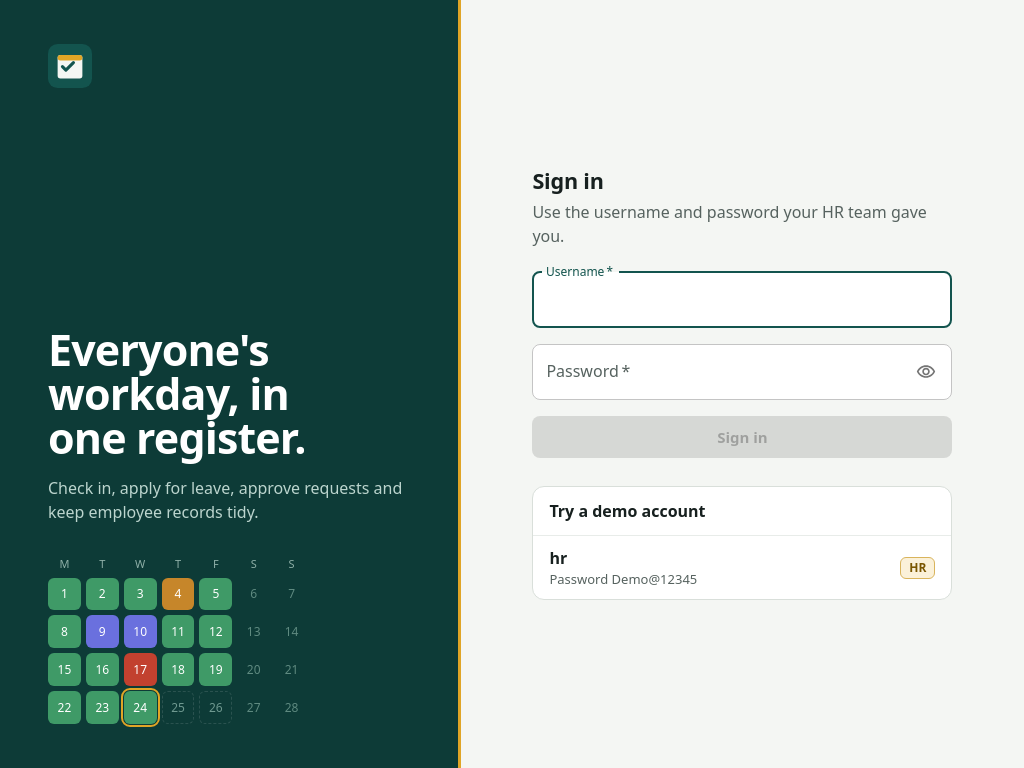
Test: LoginPage › offers demo accounts that fill the form
Click the button "hr Password Demo@12345 HR" at (580, 579), box [533,536,951,599]
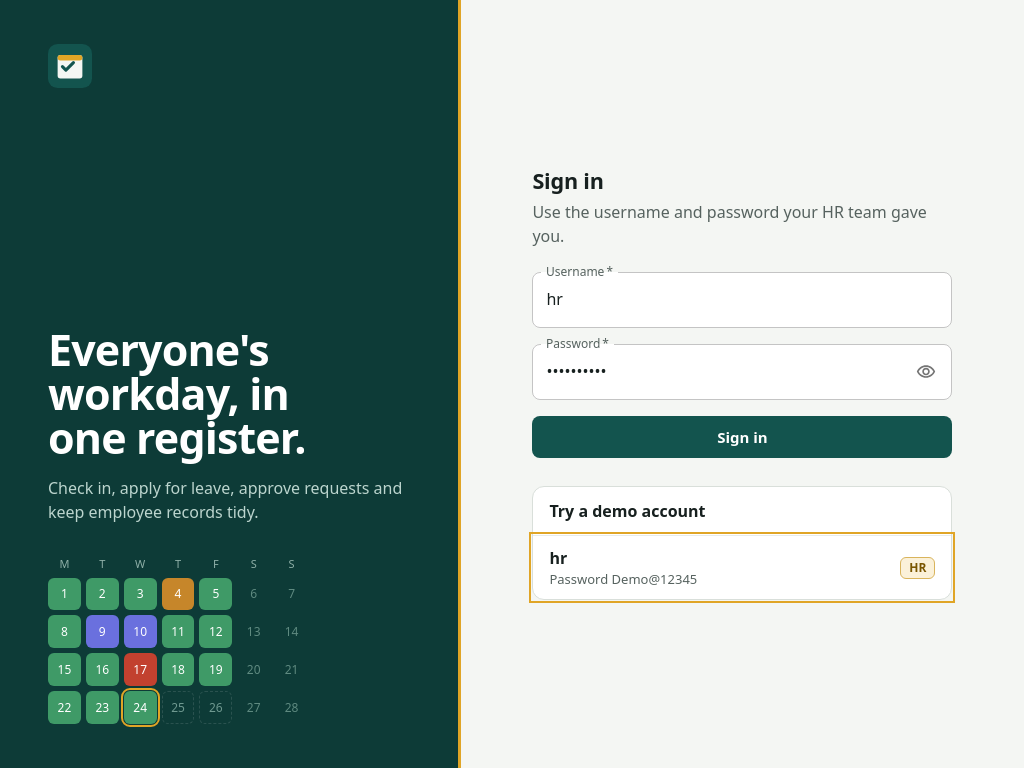
expect the field labelled "Username *" holds "hr": met, box [532,272,952,328]
expect the password field labelled "Password *" holds "Demo@12345": met, box [532,344,903,400]
